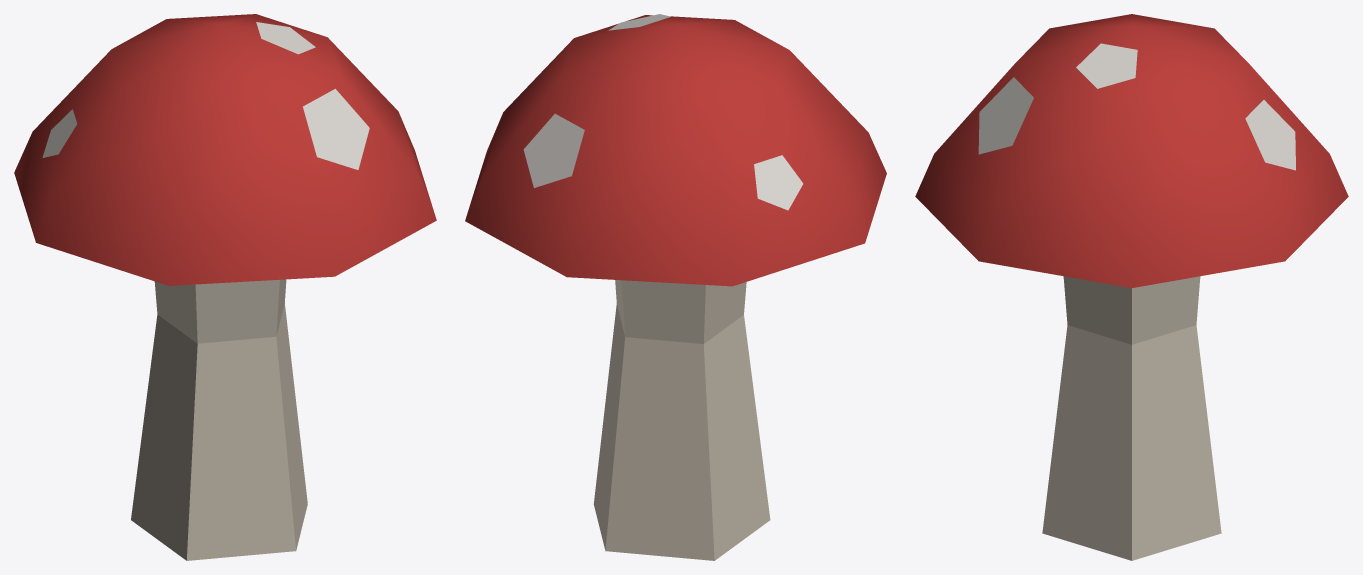
File: mushroom.glb
3 renders of one model, left to right at view 1: azimuth 30°, elevation 25°; view 2: azimuth 150°, elevation 25°; view 3: azimuth 270°, elevation 25°, orthographic.
Visible parts, largest first — view 1: Mushroom; view 2: Mushroom; view 3: Mushroom.
Part boxes in pixels (left/top/right/bottom): Mushroom: left=14, top=14, right=436, bottom=560; Mushroom: left=465, top=14, right=886, bottom=560; Mushroom: left=915, top=14, right=1348, bottom=560.
Bounding box in the file's own units: 0.23 × 0.29 × 0.23.
